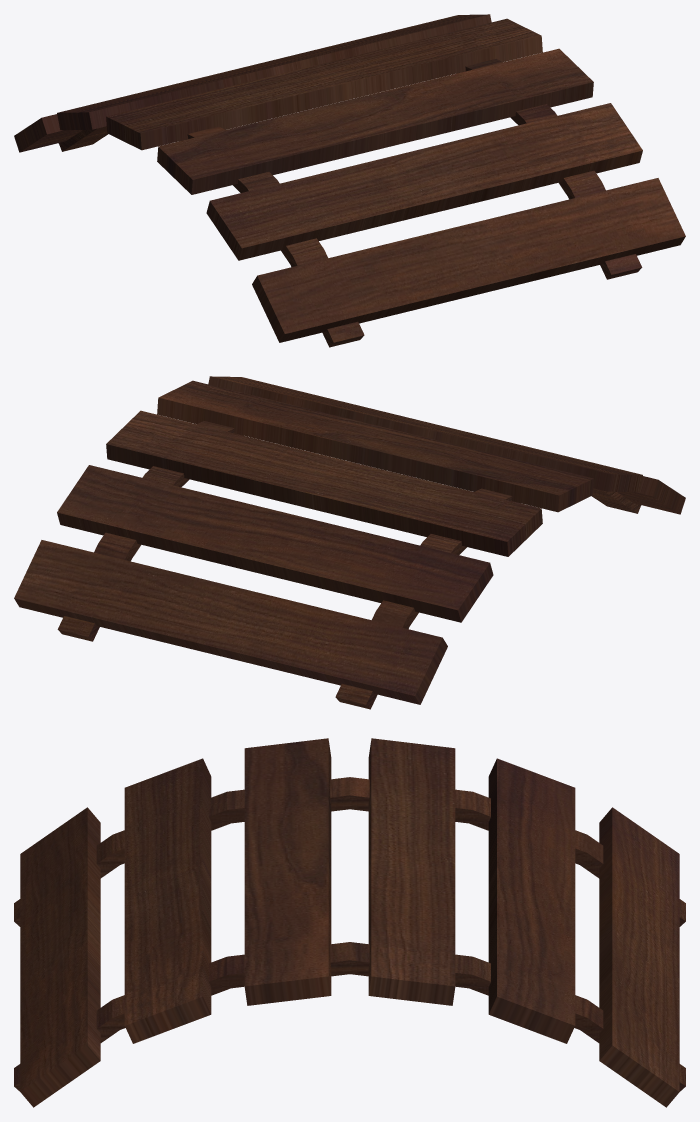
Rendered from bridge.obj.
3 views of the same model, one above another, from view 1: azimuth 30°, elevation 25°; view 2: azimuth 150°, elevation 25°; view 3: azimuth 270°, elevation 25° (orthographic). The views are drawn at different scales.
Visible parts, largest first — view 1: Steps, Support; view 2: Steps, Support; view 3: Steps, Support.
Part boxes in pixels (x1=…): Steps: x1=14, y1=14, x2=685, y2=342; Support: x1=58, y1=59, x2=642, y2=347; Steps: x1=14, y1=376, x2=685, y2=704; Support: x1=57, y1=421, x2=641, y2=709; Steps: x1=20, y1=738, x2=679, y2=1107; Support: x1=14, y1=777, x2=685, y2=1091.
Bounding box in the file's own units: 1.62 × 0.4686 × 1.94.
2 materials, 2 textured.
